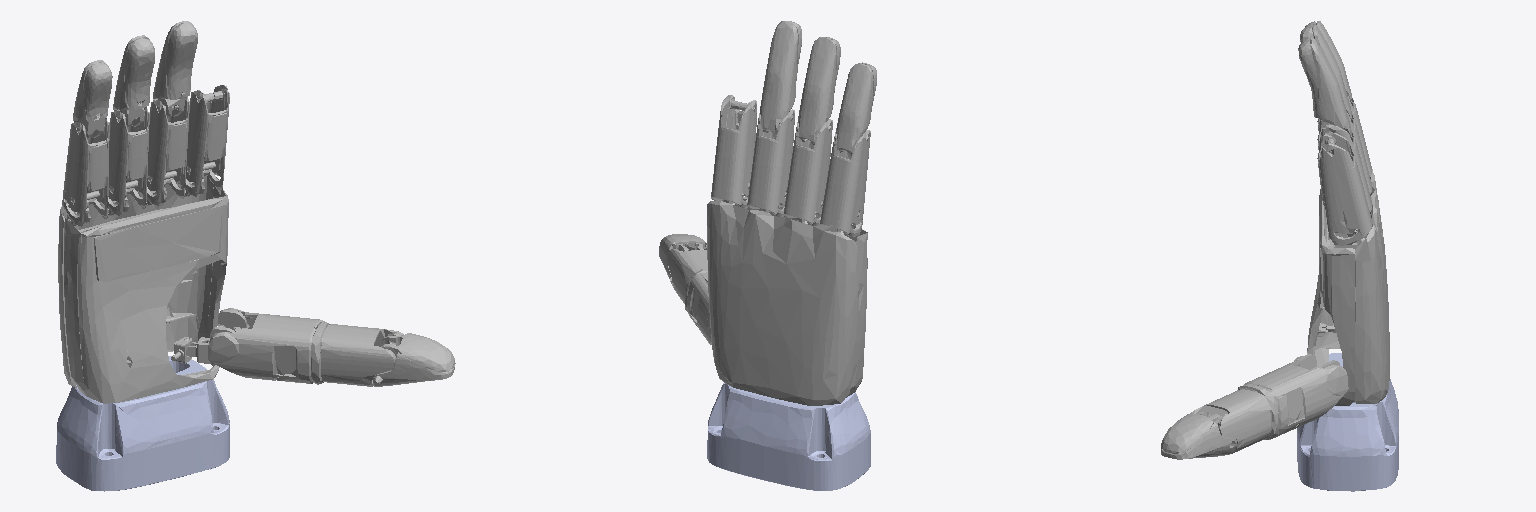
URDF robot description (hand3_v1):
<?xml version="1.0" encoding="utf-8"?>
<!-- This URDF was automatically created by SolidWorks to URDF Exporter! Originally created by Stephen Brawner (brawner@gmail.com) 
     Commit Version: 1.6.0-4-g7f85cfe  Build Version: 1.6.7995.38578
     For more information, please see http://wiki.ros.org/sw_urdf_exporter -->
<robot
  name="hand3_v1">
  <mujoco>
    <compiler
      meshdir="../../meshes/hand3_v1"
      balanceinertia="false"
      discardvisual="false"
      autolimits="true"
      inertiafromgeom="false"
      convexhull="false"
      boundmass="0.0001"
      usethread="true" />
  </mujoco>
  <link
    name="R_hand_base_link">
    <inertial>
      <origin
        xyz="0.00065934 -0.00064662 0.02223161"
        rpy="0 0 0" />
      <mass
        value="0.05238695" />
      <inertia
        ixx="0.00001722"
        ixy="-0.00000028"
        ixz="-0.00000043"
        iyy="0.00003682"
        iyz="0.00000022"
        izz="0.00004011" />
    </inertial>
    <visual>
      <origin
        xyz="0 0 0"
        rpy="0 0 0" />
      <geometry>
        <mesh
          filename="../../../meshes/hand_v3/right/R_hand_base_link.STL" />
      </geometry>
      <material
        name="">
        <color
          rgba="0.792156862745098 0.819607843137255 0.933333333333333 1" />
      </material>
    </visual>
    <collision>
      <origin
        xyz="0 0 0"
        rpy="0 0 0" />
      <geometry>
        <mesh
          filename="../../../meshes/hand_v3/right/R_hand_base_link.STL" />
      </geometry>
    </collision>
  </link>
  <link
    name="R_palm_link">
    <inertial>
      <origin
        xyz="-0.00938866 0.00221701 -0.0117814"
        rpy="0 0 0" />
      <mass
        value="0.38223591" />
      <inertia
        ixx="0.00022773"
        ixy="0.00000169"
        ixz="0.00000005"
        iyy="0.00035269"
        iyz="0.00001316"
        izz="0.00050349" />
    </inertial>
    <visual>
      <origin
        xyz="0 0 0"
        rpy="0 0 0" />
      <geometry>
        <mesh
          filename="../../../meshes/hand_v3/right/R_palm_link.STL" />
      </geometry>
      <material
        name="">
        <color
          rgba="0.752941176470588 0.752941176470588 0.752941176470588 1" />
      </material>
    </visual>
    <collision>
      <origin
        xyz="0 0 0"
        rpy="0 0 0" />
      <geometry>
        <mesh
          filename="../../../meshes/hand_v3/right/R_palm_link.STL" />
      </geometry>
    </collision>
  </link>
  <joint
    name="R_palm_joint"
    type="fixed">
    <origin
      xyz="0.00035702 -0.013196 0.099778"
      rpy="1.5708 -1.5708 0" />
    <parent
      link="R_hand_base_link" />
    <child
      link="R_palm_link" />
    <axis
      xyz="0 0 0" />
  </joint>
  <link
    name="R_thumb_cmp_link">
    <inertial>
      <origin
        xyz="0.00563085 0.00075 -0.00435852"
        rpy="0 0 0" />
      <mass
        value="0.01511033" />
      <inertia
        ixx="0.00000093"
        ixy="-0.00000007"
        ixz="0.0000003"
        iyy="0.00000105"
        iyz="0.00000002"
        izz="0.00000107" />
    </inertial>
    <visual>
      <origin
        xyz="0 0 0"
        rpy="0 0 0" />
      <geometry>
        <mesh
          filename="../../../meshes/hand_v3/right/R_thumb_cmp_link.STL" />
      </geometry>
      <material
        name="">
        <color
          rgba="0.752941176470588 0.752941176470588 0.752941176470588 1" />
      </material>
    </visual>
    <collision>
      <origin
        xyz="0 0 0"
        rpy="0 0 0" />
      <geometry>
        <mesh
          filename="../../../meshes/hand_v3/right/R_thumb_cmp_link.STL" />
      </geometry>
    </collision>
  </link>
  <joint
    name="R_thumb_cmp_joint"
    type="revolute">
    <origin
      xyz="-0.048578 -0.028956 -0.0073648"
      rpy="1.5708 -0.75224 -1.5708" />
    <parent
      link="R_palm_link" />
    <child
      link="R_thumb_cmp_link" />
    <axis
      xyz="0 0 1" />
    <limit
      lower="0"
      upper="0.96"
      effort="1.35"
      velocity="2.09" />
  </joint>
  <link
    name="R_thumb_mpp_link">
    <inertial>
      <origin
        xyz="0.03618423 -0.00195018 0.00007704"
        rpy="0 0 0" />
      <mass
        value="0.06741198" />
      <inertia
        ixx="0.00000637"
        ixy="-0.00000267"
        ixz="-0.00000003"
        iyy="0.00003296"
        iyz="0"
        izz="0.00003268" />
    </inertial>
    <visual>
      <origin
        xyz="0 0 0"
        rpy="0 0 0" />
      <geometry>
        <mesh
          filename="../../../meshes/hand_v3/right/R_thumb_mpp_link.STL" />
      </geometry>
      <material
        name="">
        <color
          rgba="0.752941176470588 0.752941176470588 0.752941176470588 1" />
      </material>
    </visual>
    <collision>
      <origin
        xyz="0 0 0"
        rpy="0 0 0" />
      <geometry>
        <mesh
          filename="../../../meshes/hand_v3/right/R_thumb_mpp_link.STL" />
      </geometry>
    </collision>
  </link>
  <joint
    name="R_thumb_mpp_joint"
    type="revolute">
    <origin
      xyz="0.012 0.0010557 -0.010045"
      rpy="-1.4661 -0.00015422 -1.621E-05" />
    <parent
      link="R_thumb_cmp_link" />
    <child
      link="R_thumb_mpp_link" />
    <axis
      xyz="0 0 1" />
    <limit
      lower="0"
      upper="1.04"
      effort="1.35"
      velocity="2.09" />
  </joint>
  <link
    name="R_thumb_ip_link">
    <inertial>
      <origin
        xyz="0.01353705 0.00416931 -0.00000614"
        rpy="0 0 0" />
      <mass
        value="0.01731117" />
      <inertia
        ixx="0.00000104"
        ixy="-0.00000015"
        ixz="0"
        iyy="0.00000185"
        iyz="0"
        izz="0.00000176" />
    </inertial>
    <visual>
      <origin
        xyz="0 0 0"
        rpy="0 0 0" />
      <geometry>
        <mesh
          filename="../../../meshes/hand_v3/right/R_thumb_ip_link.STL" />
      </geometry>
      <material
        name="">
        <color
          rgba="0.752941176470588 0.752941176470588 0.752941176470588 1" />
      </material>
    </visual>
    <collision>
      <origin
        xyz="0 0 0"
        rpy="0 0 0" />
      <geometry>
        <mesh
          filename="../../../meshes/hand_v3/right/R_thumb_ip_link.STL" />
      </geometry>
    </collision>
  </link>
  <joint
    name="R_thumb_ip_joint"
    type="revolute">
    <origin
      xyz="0.075 0 0"
      rpy="0 0 0.012082" />
    <parent
      link="R_thumb_mpp_link" />
    <child
      link="R_thumb_ip_link" />
    <axis
      xyz="0 0 1" />
    <limit
      lower="0"
      upper="1.05"
      effort="1.35"
      velocity="2.09" />
  </joint>
  <link
    name="R_index_mpp_link">
    <inertial>
      <origin
        xyz="0.01525314 -0.00181681 -0.00015205"
        rpy="0 0 0" />
      <mass
        value="0.01470075" />
      <inertia
        ixx="0.00000087"
        ixy="0"
        ixz="0"
        iyy="0.00000357"
        iyz="0"
        izz="0.00000352" />
    </inertial>
    <visual>
      <origin
        xyz="0 0 0"
        rpy="0 0 0" />
      <geometry>
        <mesh
          filename="../../../meshes/hand_v3/right/R_index_mpp_link.STL" />
      </geometry>
      <material
        name="">
        <color
          rgba="0.752941176470588 0.752941176470588 0.752941176470588 1" />
      </material>
    </visual>
    <collision>
      <origin
        xyz="0 0 0"
        rpy="0 0 0" />
      <geometry>
        <mesh
          filename="../../../meshes/hand_v3/right/R_index_mpp_link.STL" />
      </geometry>
    </collision>
  </link>
  <joint
    name="R_index_mpp_joint"
    type="revolute">
    <origin
      xyz="0.041818 -0.03077 -0.011696"
      rpy="1.5708 -0.18118 -0.020071" />
    <parent
      link="R_palm_link" />
    <child
      link="R_index_mpp_link" />
    <axis
      xyz="0 0 1" />
    <limit
      lower="0"
      upper="1.46"
      effort="1.35"
      velocity="2.09" />
  </joint>
  <link
    name="R_index_ip_link">
    <inertial>
      <origin
        xyz="0.01680857 -0.00117535 0"
        rpy="0 0 0" />
      <mass
        value="0.01334933" />
      <inertia
        ixx="0.00000042"
        ixy="-0.00000029"
        ixz="0"
        iyy="0.00000262"
        iyz="0"
        izz="0.00000261" />
    </inertial>
    <visual>
      <origin
        xyz="0 0 0"
        rpy="0 0 0" />
      <geometry>
        <mesh
          filename="../../../meshes/hand_v3/right/R_index_ip_link.STL" />
      </geometry>
      <material
        name="">
        <color
          rgba="0.752941176470588 0.752941176470588 0.752941176470588 1" />
      </material>
    </visual>
    <collision>
      <origin
        xyz="0 0 0"
        rpy="0 0 0" />
      <geometry>
        <mesh
          filename="../../../meshes/hand_v3/right/R_index_ip_link.STL" />
      </geometry>
    </collision>
  </link>
  <joint
    name="R_index_ip_joint"
    type="revolute">
    <origin
      xyz="0.0388 0 0"
      rpy="0 0 -0.014509" />
    <parent
      link="R_index_mpp_link" />
    <child
      link="R_index_ip_link" />
    <axis
      xyz="0 0 1" />
    <limit
      lower="0"
      upper="1.62"
      effort="1.35"
      velocity="2.09" />
  </joint>
  <link
    name="R_middle_mpp_link">
    <inertial>
      <origin
        xyz="0.01476009 -0.00171481 -0.00012869"
        rpy="0 0 0" />
      <mass
        value="0.01430214" />
      <inertia
        ixx="0.00000086"
        ixy="-0.00000003"
        ixz="0"
        iyy="0.00000344"
        iyz="0"
        izz="0.00000339" />
    </inertial>
    <visual>
      <origin
        xyz="0 0 0"
        rpy="0 0 0" />
      <geometry>
        <mesh
          filename="../../../meshes/hand_v3/right/R_middle_mpp_link.STL" />
      </geometry>
      <material
        name="">
        <color
          rgba="0.752941176470588 0.752941176470588 0.752941176470588 1" />
      </material>
    </visual>
    <collision>
      <origin
        xyz="0 0 0"
        rpy="0 0 0" />
      <geometry>
        <mesh
          filename="../../../meshes/hand_v3/right/R_middle_mpp_link.STL" />
      </geometry>
    </collision>
  </link>
  <joint
    name="R_middle_mpp_joint"
    type="revolute">
    <origin
      xyz="0.042022 -0.011107 -0.011696"
      rpy="1.5673 -0.18114 0.019678" />
    <parent
      link="R_palm_link" />
    <child
      link="R_middle_mpp_link" />
    <axis
      xyz="0 0 1" />
    <limit
      lower="0"
      upper="1.46"
      effort="1.35"
      velocity="2.09" />
  </joint>
  <link
    name="R_middle_ip_link">
    <inertial>
      <origin
        xyz="0.01771317 -0.00109666 -0.0000256"
        rpy="0 0 0" />
      <mass
        value="0.0148881" />
      <inertia
        ixx="0.00000047"
        ixy="-0.00000038"
        ixz="0"
        iyy="0.00000344"
        iyz="0"
        izz="0.00000344" />
    </inertial>
    <visual>
      <origin
        xyz="0 0 0"
        rpy="0 0 0" />
      <geometry>
        <mesh
          filename="../../../meshes/hand_v3/right/R_middle_ip_link.STL" />
      </geometry>
      <material
        name="">
        <color
          rgba="0.752941176470588 0.752941176470588 0.752941176470588 1" />
      </material>
    </visual>
    <collision>
      <origin
        xyz="0 0 0"
        rpy="0 0 0" />
      <geometry>
        <mesh
          filename="../../../meshes/hand_v3/right/R_middle_ip_link.STL" />
      </geometry>
    </collision>
  </link>
  <joint
    name="R_middle_ip_joint"
    type="revolute">
    <origin
      xyz="0.038807 0 0"
      rpy="0.00023357 -0.019354 -0.012068" />
    <parent
      link="R_middle_mpp_link" />
    <child
      link="R_middle_ip_link" />
    <axis
      xyz="0 0 1" />
    <limit
      lower="0"
      upper="1.62"
      effort="1.35"
      velocity="2.09" />
  </joint>
  <link
    name="R_ring_mpp_link">
    <inertial>
      <origin
        xyz="0.01475954 -0.00171495 -0.00012869"
        rpy="0 0 0" />
      <mass
        value="0.01430214" />
      <inertia
        ixx="0.00000086"
        ixy="-0.00000003"
        ixz="0"
        iyy="0.00000344"
        iyz="0"
        izz="0.00000339" />
    </inertial>
    <visual>
      <origin
        xyz="0 0 0"
        rpy="0 0 0" />
      <geometry>
        <mesh
          filename="../../../meshes/hand_v3/right/R_ring_mpp_link.STL" />
      </geometry>
      <material
        name="">
        <color
          rgba="0.752941176470588 0.752941176470588 0.752941176470588 1" />
      </material>
    </visual>
    <collision>
      <origin
        xyz="0 0 0"
        rpy="0 0 0" />
      <geometry>
        <mesh
          filename="../../../meshes/hand_v3/right/R_ring_mpp_link.STL" />
      </geometry>
    </collision>
  </link>
  <joint
    name="R_ring_mpp_joint"
    type="revolute">
    <origin
      xyz="0.041818 0.010057 -0.011696"
      rpy="1.5708 -0.18118 0.020071" />
    <parent
      link="R_palm_link" />
    <child
      link="R_ring_mpp_link" />
    <axis
      xyz="0 0 1" />
    <limit
      lower="0"
      upper="1.46"
      effort="1.35"
      velocity="2.09" />
  </joint>
  <link
    name="R_ring_ip_link">
    <inertial>
      <origin
        xyz="0.01615432 -0.00130235 -0.00002763"
        rpy="0 0 0" />
      <mass
        value="0.01374794" />
      <inertia
        ixx="0.00000043"
        ixy="-0.00000033"
        ixz="0"
        iyy="0.00000282"
        iyz="0"
        izz="0.00000281" />
    </inertial>
    <visual>
      <origin
        xyz="0 0 0"
        rpy="0 0 0" />
      <geometry>
        <mesh
          filename="../../../meshes/hand_v3/right/R_ring_ip_link.STL" />
      </geometry>
      <material
        name="">
        <color
          rgba="0.752941176470588 0.752941176470588 0.752941176470588 1" />
      </material>
    </visual>
    <collision>
      <origin
        xyz="0 0 0"
        rpy="0 0 0" />
      <geometry>
        <mesh
          filename="../../../meshes/hand_v3/right/R_ring_ip_link.STL" />
      </geometry>
    </collision>
  </link>
  <joint
    name="R_ring_ip_joint"
    type="revolute">
    <origin
      xyz="0.0388 0 0"
      rpy="0 0 -0.014509" />
    <parent
      link="R_ring_mpp_link" />
    <child
      link="R_ring_ip_link" />
    <axis
      xyz="0 0 1" />
    <limit
      lower="0"
      upper="1.62"
      effort="1.35"
      velocity="2.09" />
  </joint>
  <link
    name="R_little_mpp_link">
    <inertial>
      <origin
        xyz="0.0147588 -0.00171514 -0.00012869"
        rpy="0 0 0" />
      <mass
        value="0.01430214" />
      <inertia
        ixx="0.00000086"
        ixy="-0.00000003"
        ixz="0"
        iyy="0.00000344"
        iyz="0"
        izz="0.00000339" />
    </inertial>
    <visual>
      <origin
        xyz="0 0 0"
        rpy="0 0 0" />
      <geometry>
        <mesh
          filename="../../../meshes/hand_v3/right/R_little_mpp_link.STL" />
      </geometry>
      <material
        name="">
        <color
          rgba="0.752941176470588 0.752941176470588 0.752941176470588 1" />
      </material>
    </visual>
    <collision>
      <origin
        xyz="0 0 0"
        rpy="0 0 0" />
      <geometry>
        <mesh
          filename="../../../meshes/hand_v3/right/R_little_mpp_link.STL" />
      </geometry>
    </collision>
  </link>
  <joint
    name="R_little_mpp_joint"
    type="revolute">
    <origin
      xyz="0.041203 0.030462 -0.011696"
      rpy="1.5708 -0.18118 0.040143" />
    <parent
      link="R_palm_link" />
    <child
      link="R_little_mpp_link" />
    <axis
      xyz="0 0 1" />
    <limit
      lower="0"
      upper="1.46"
      effort="1.35"
      velocity="2.09" />
  </joint>
  <link
    name="R_little_ip_link">
    <inertial>
      <origin
        xyz="0.01303327 -0.00143438 -0.0000295"
        rpy="0 0 0" />
      <mass
        value="0.01179268" />
      <inertia
        ixx="0.00000034"
        ixy="-0.00000023"
        ixz="0"
        iyy="0.00000179"
        iyz="0"
        izz="0.00000178" />
    </inertial>
    <visual>
      <origin
        xyz="0 0 0"
        rpy="0 0 0" />
      <geometry>
        <mesh
          filename="../../../meshes/hand_v3/right/R_little_ip_link.STL" />
      </geometry>
      <material
        name="">
        <color
          rgba="0.752941176470588 0.752941176470588 0.752941176470588 1" />
      </material>
    </visual>
    <collision>
      <origin
        xyz="0 0 0"
        rpy="0 0 0" />
      <geometry>
        <mesh
          filename="../../../meshes/hand_v3/right/R_little_ip_link.STL" />
      </geometry>
    </collision>
  </link>
  <joint
    name="R_little_ip_joint"
    type="revolute">
    <origin
      xyz="0.0388 0 0"
      rpy="0 0 -0.014509" />
    <parent
      link="R_little_mpp_link" />
    <child
      link="R_little_ip_link" />
    <axis
      xyz="0 0 1" />
    <limit
      lower="0"
      upper="1.62"
      effort="1.35"
      velocity="2.09" />
  </joint>
</robot>

--- What the picture shows (computed from the rendered views, not written in the file) ---
The picture shows the robot from 3 angles, left to right: view 1: azimuth 30°, elevation 25°; view 2: azimuth 150°, elevation 25°; view 3: azimuth 270°, elevation 25°; orthographic projection.
Model hand3_v1 with 13 links and 12 joints (11 revolute, 1 fixed), rooted at R_hand_base_link, posed all joints at 0.
Links seen in each view (by area): view 1: R_palm_link, R_hand_base_link, R_thumb_mpp_link, R_index_mpp_link, R_little_mpp_link, R_middle_mpp_link, R_ring_mpp_link, R_thumb_ip_link, R_middle_ip_link, R_ring_ip_link, R_little_ip_link, R_thumb_cmp_link; view 2: R_palm_link, R_hand_base_link, R_index_mpp_link, R_little_mpp_link, R_ring_mpp_link, R_middle_mpp_link, R_middle_ip_link, R_ring_ip_link, R_thumb_mpp_link, R_little_ip_link, R_thumb_ip_link; view 3: R_palm_link, R_hand_base_link, R_thumb_mpp_link, R_index_mpp_link, R_thumb_ip_link, R_middle_ip_link, R_ring_ip_link, R_middle_mpp_link.
Link boxes in pixels (x1,y1,x2,y2): R_palm_link: (58, 175, 228, 403); R_hand_base_link: (56, 356, 229, 491); R_thumb_mpp_link: (208, 308, 403, 386); R_index_mpp_link: (181, 85, 229, 196); R_little_mpp_link: (62, 117, 109, 226); R_middle_mpp_link: (143, 97, 189, 205); R_ring_mpp_link: (108, 107, 149, 215); R_thumb_ip_link: (373, 333, 455, 386); R_middle_ip_link: (153, 21, 197, 117); R_ring_ip_link: (113, 35, 154, 127); R_little_ip_link: (73, 60, 112, 138); R_thumb_cmp_link: (171, 309, 246, 364); R_palm_link: (707, 196, 867, 405); R_hand_base_link: (707, 383, 870, 490); R_index_mpp_link: (711, 95, 756, 208); R_little_mpp_link: (820, 130, 870, 236); R_ring_mpp_link: (783, 119, 832, 225); R_middle_mpp_link: (747, 109, 794, 216); R_middle_ip_link: (760, 21, 801, 134); R_ring_ip_link: (798, 37, 840, 144); R_thumb_mpp_link: (667, 248, 711, 344); R_little_ip_link: (836, 62, 876, 155); R_thumb_ip_link: (659, 234, 706, 287); R_palm_link: (1307, 169, 1389, 405); R_hand_base_link: (1297, 353, 1398, 491); R_thumb_mpp_link: (1191, 356, 1348, 453); R_index_mpp_link: (1317, 132, 1371, 246); R_thumb_ip_link: (1161, 411, 1236, 459); R_middle_ip_link: (1298, 38, 1351, 137); R_ring_ip_link: (1300, 24, 1351, 118); R_middle_mpp_link: (1317, 121, 1371, 234).
Size in the robot's own frame: 0.1587 by 0.1144 by 0.2263 metres.
12 mesh visuals loaded from 13 distinct referenced files (12 binary STL); not drawn: 1 (reference not matched to a file when rendering).
